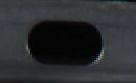holes: (26, 18, 106, 68)
